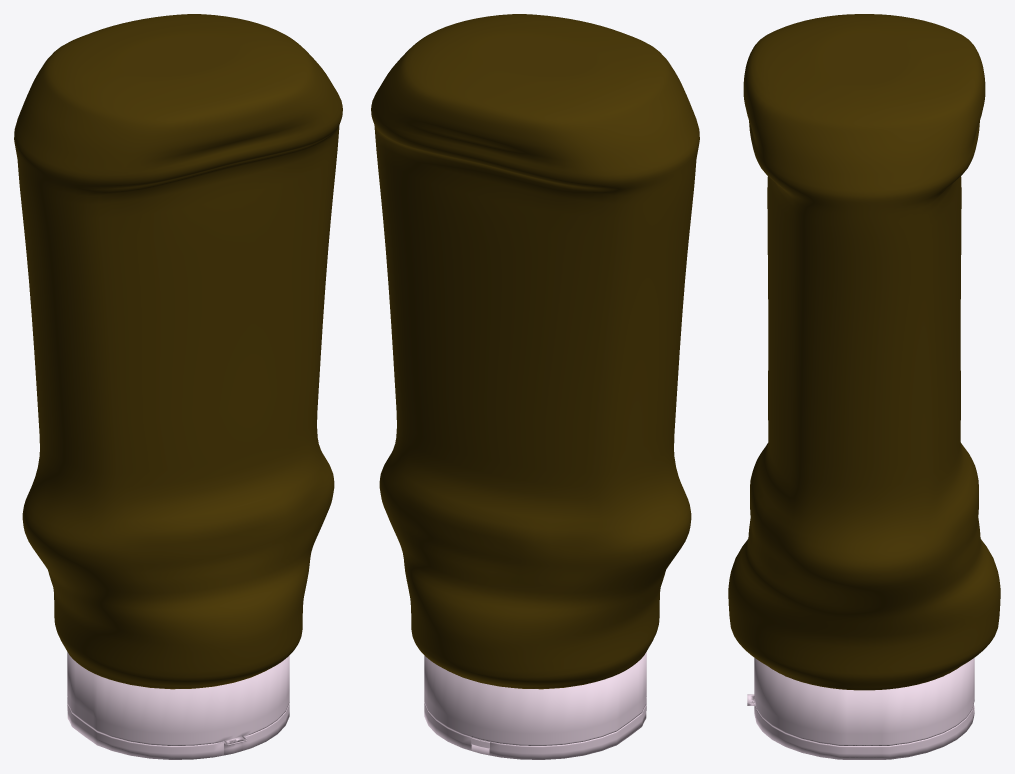
The model's file is mustard.obj.
The picture shows the model from 3 angles, left to right: view 1: azimuth 30°, elevation 25°; view 2: azimuth 150°, elevation 25°; view 3: azimuth 270°, elevation 25°; orthographic projection.
Visible parts, largest first — view 1: ketchup_bottle, ketchup_bottle.001; view 2: ketchup_bottle, ketchup_bottle.001; view 3: ketchup_bottle, ketchup_bottle.001.
Part boxes in pixels (left/top/right/bottom): ketchup_bottle: left=14, top=14, right=342, bottom=745; ketchup_bottle.001: left=67, top=697, right=289, bottom=759; ketchup_bottle: left=371, top=14, right=699, bottom=745; ketchup_bottle.001: left=424, top=697, right=646, bottom=759; ketchup_bottle: left=728, top=14, right=1000, bottom=745; ketchup_bottle.001: left=747, top=701, right=974, bottom=759.
Bounding box in the file's own units: 0.4106 × 0.8595 × 0.3235.
